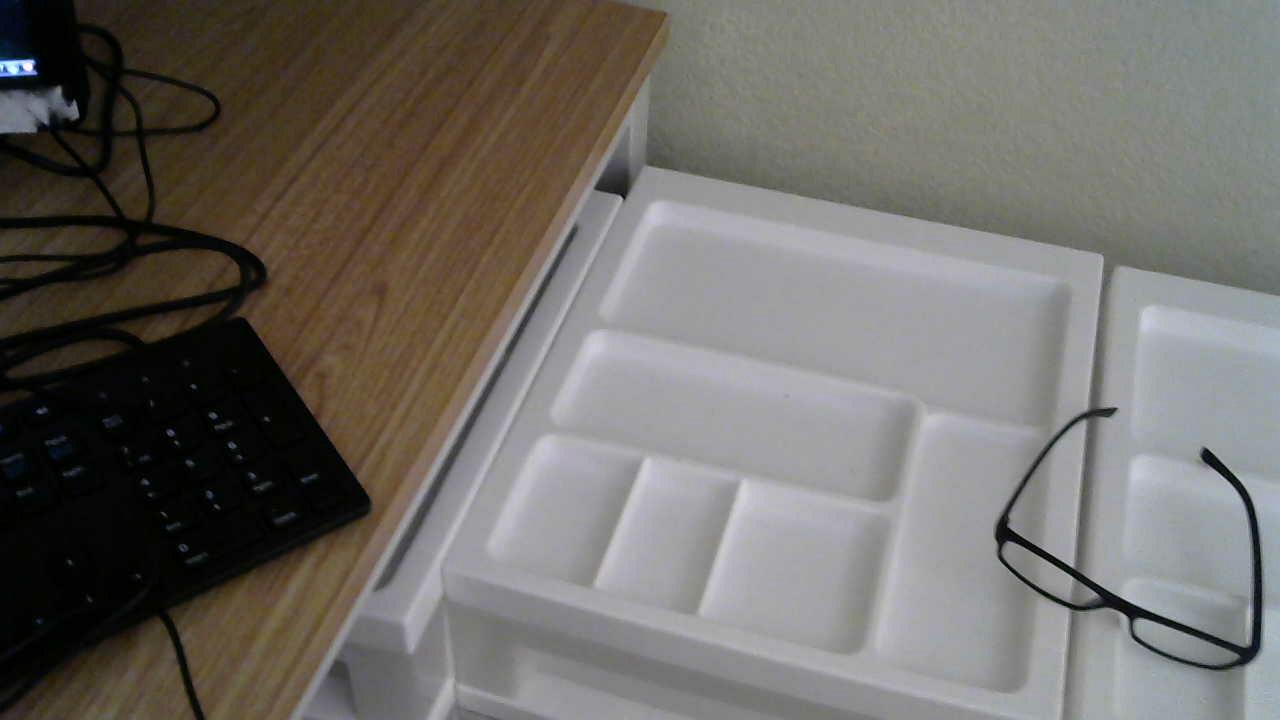Glasses: (970, 386, 1274, 687)
